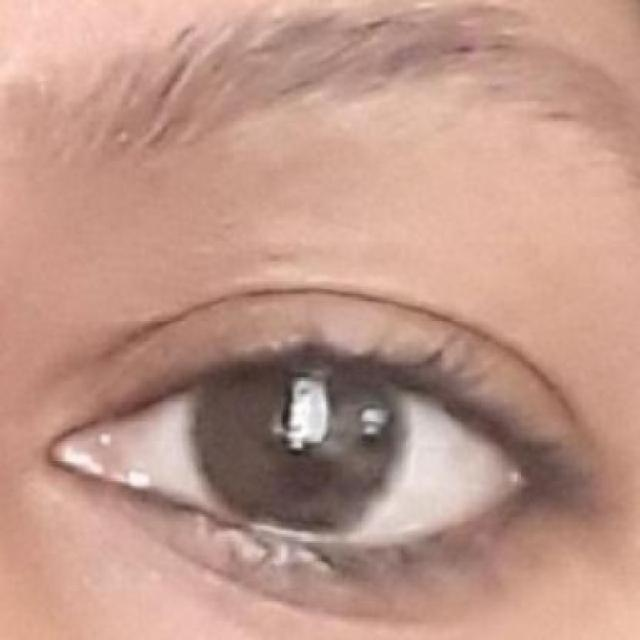awake: (35, 295, 583, 590)
